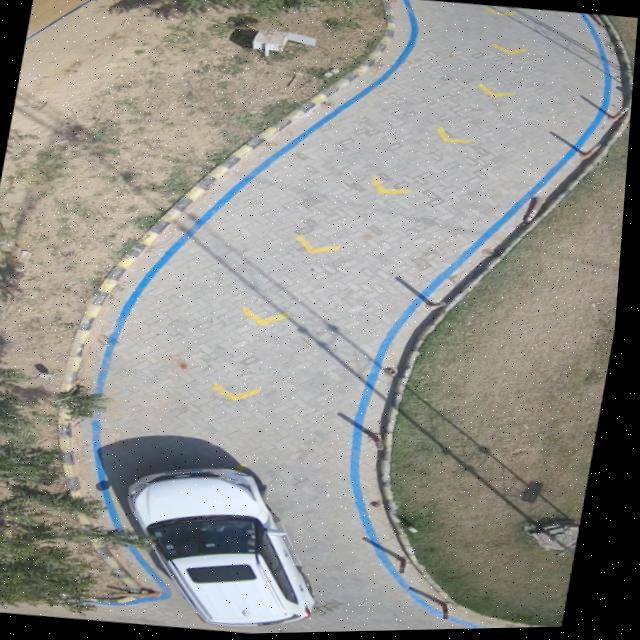car: (133, 468, 322, 627)
